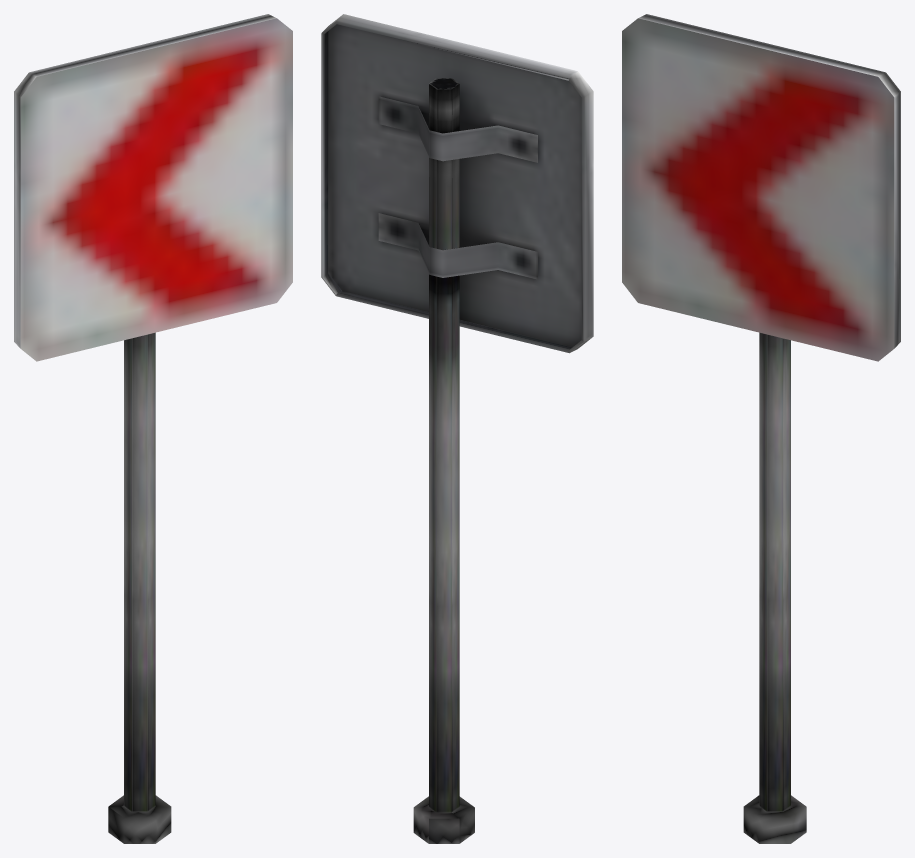
File: sign_curve.gltf
3 views of the same model, side by side, from view 1: azimuth 30°, elevation 25°; view 2: azimuth 150°, elevation 25°; view 3: azimuth 330°, elevation 25° (orthographic). The views are drawn at different scales.
Parts seen in each view (by area): view 1: sign_curve; view 2: sign_curve; view 3: sign_curve.
Part boxes in pixels (x1,y1,x2,y2): sign_curve: (14, 14, 292, 843); sign_curve: (321, 14, 593, 843); sign_curve: (622, 14, 900, 843).
Bounding box in the file's own units: 0.8214 × 2.3 × 0.1709.
Materials: 1 (1 with a texture image).
